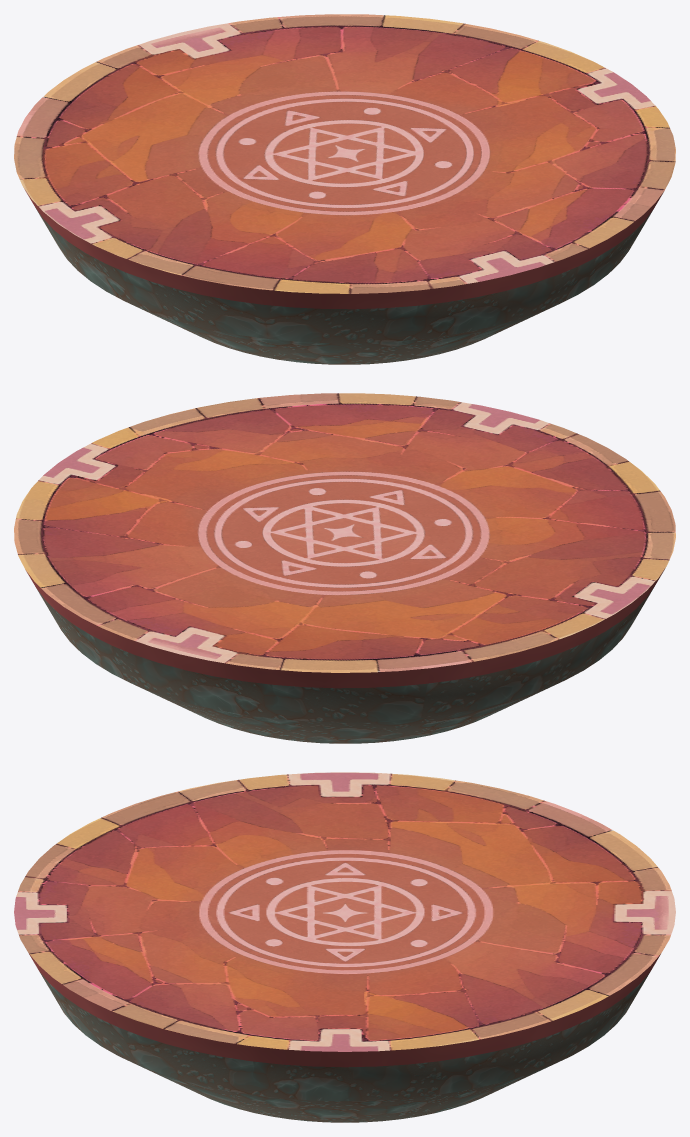
Rendered from boss_1_arena.fbx.
3 renders of one model, top to bottom at view 1: azimuth 30°, elevation 25°; view 2: azimuth 150°, elevation 25°; view 3: azimuth 270°, elevation 25°, orthographic.
Parts seen in each view (by area): view 1: Cylinder; view 2: Cylinder; view 3: Cylinder.
Boxes of the visible parts, x1=… form: Cylinder: x1=14, y1=14, x2=675, y2=364; Cylinder: x1=14, y1=393, x2=675, y2=743; Cylinder: x1=14, y1=772, x2=675, y2=1122.
Bounding box in the file's own units: 3000 × 651 × 3000.
